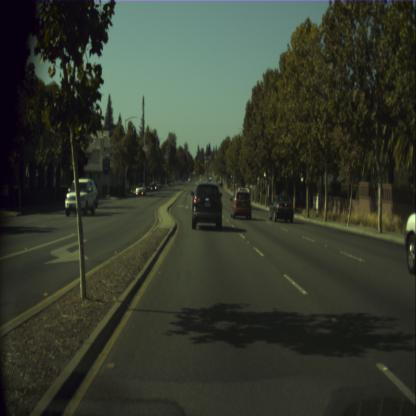Green: (230, 172, 232, 180), (206, 157, 209, 162)
